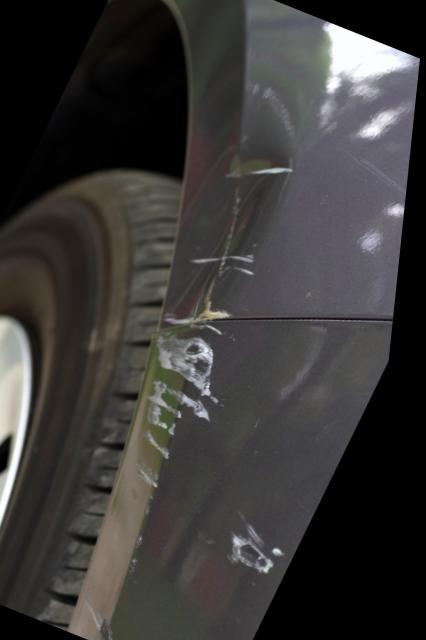dent: (167, 137, 294, 327)
scratch: (141, 324, 233, 566), (233, 519, 298, 576)
